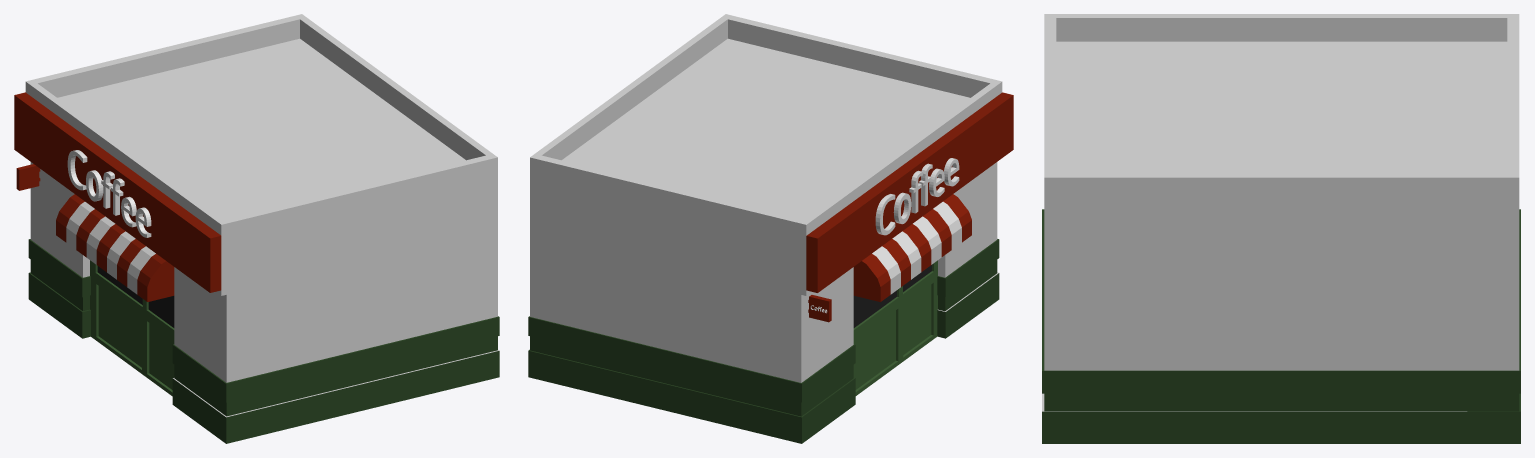
File: Shop_1.fbx
3 views of the same model, side by side, from view 1: azimuth 30°, elevation 25°; view 2: azimuth 150°, elevation 25°; view 3: azimuth 270°, elevation 25° (orthographic). The views are drawn at different scales.
Visible parts, largest first — view 1: Shop; view 2: Shop; view 3: Shop.
Part boxes in pixels (<box>): Shop: <box>14,14,499,443</box>; Shop: <box>528,14,1013,443</box>; Shop: <box>1042,14,1520,443</box>.
Size of the model in its own units: 0.3359 by 0.2355 by 0.3841.
